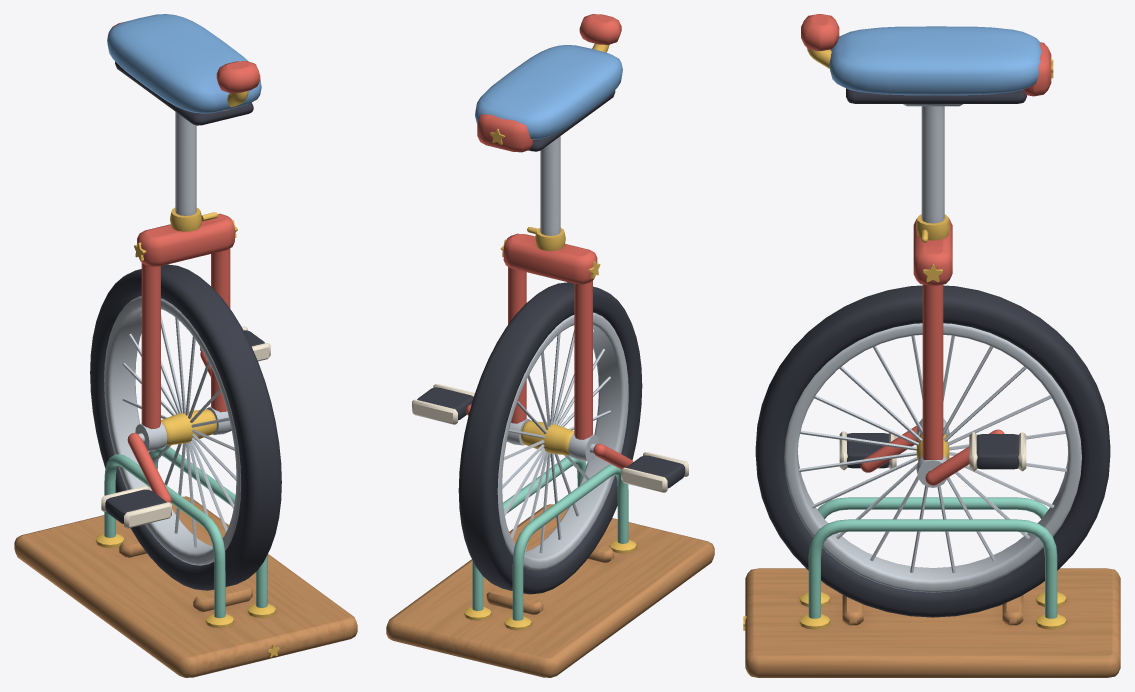
Rendered from unicycle.glb.
The picture shows the model from 3 angles, left to right: view 1: azimuth 30°, elevation 25°; view 2: azimuth 150°, elevation 25°; view 3: azimuth 270°, elevation 25°; orthographic projection. The views are drawn at different scales.
Visible parts, largest first — view 1: unicycle_body, unicycle_wheel_main; view 2: unicycle_body, unicycle_wheel_main; view 3: unicycle_body, unicycle_wheel_main.
Boxes of the visible parts, x1,y1,x2,y2 form: unicycle_body: (14, 14, 357, 677); unicycle_wheel_main: (90, 264, 281, 590); unicycle_body: (386, 14, 714, 677); unicycle_wheel_main: (412, 282, 688, 594); unicycle_body: (743, 14, 1120, 677); unicycle_wheel_main: (755, 285, 1110, 617).
Size of the model in its own units: 0.37 by 0.975 by 0.543.
8 materials, 1 textured.
